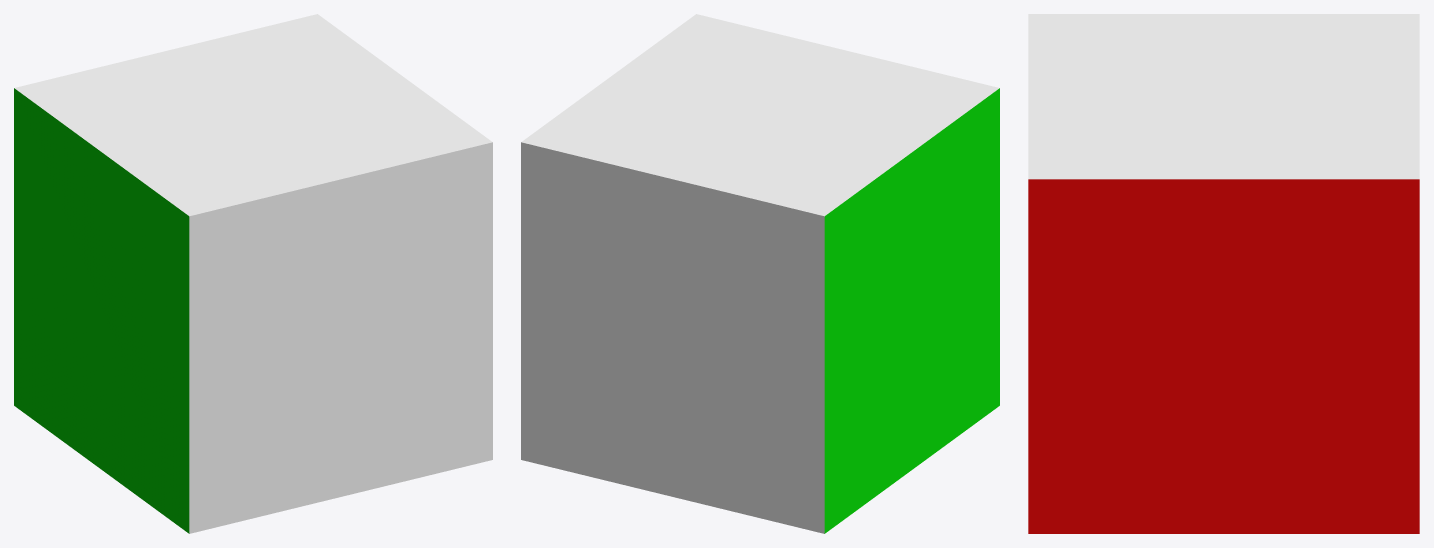
The model's file is cornell_box.obj.
3 renders of one model, left to right at view 1: azimuth 30°, elevation 25°; view 2: azimuth 150°, elevation 25°; view 3: azimuth 270°, elevation 25°, orthographic. The views are drawn at different scales.
Visible parts, largest first — view 1: back_wall, green_wall, ceiling; view 2: front_wall, green_wall, ceiling; view 3: red_wall, ceiling.
Boxes of the visible parts, x1=… form: back_wall: x1=189, y1=142, x2=492, y2=533; green_wall: x1=14, y1=88, x2=189, y2=533; ceiling: x1=14, y1=14, x2=492, y2=216; front_wall: x1=521, y1=142, x2=824, y2=533; green_wall: x1=824, y1=88, x2=999, y2=533; ceiling: x1=521, y1=14, x2=999, y2=216; red_wall: x1=1028, y1=179, x2=1419, y2=533; ceiling: x1=1028, y1=14, x2=1419, y2=179.
Size of the model in its own units: 1 by 1 by 1.
